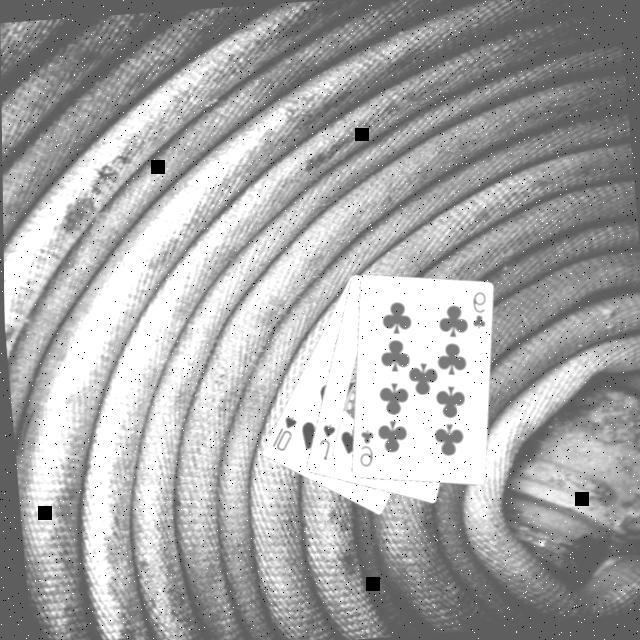10S: (262, 409, 300, 454)
9C: (350, 423, 376, 468), (463, 286, 489, 330)
JS: (310, 418, 338, 462)
